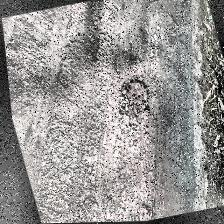pothole: (106, 76, 160, 144)
